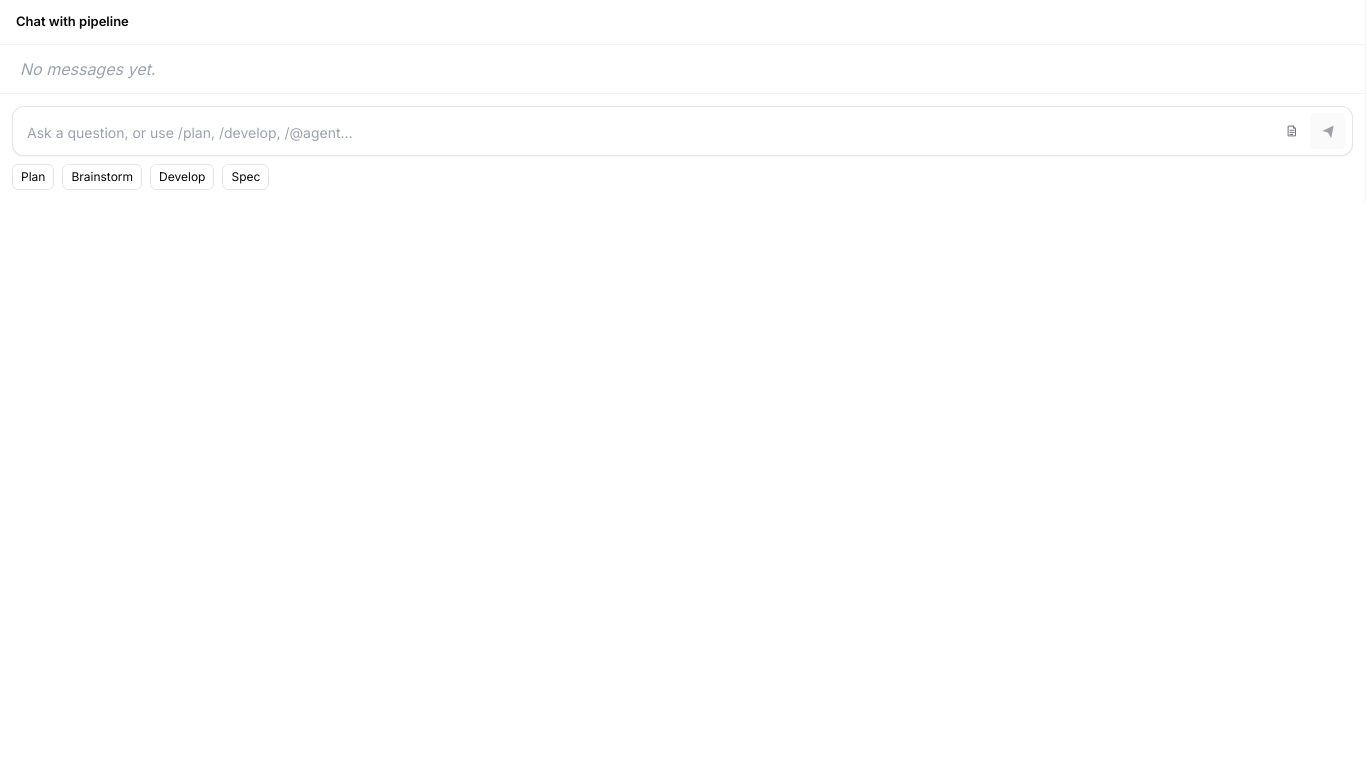
Test: ChatColumn › W.9.4 — New-spec affordance in ChatColumn › clicking new-spec button opens the SpecDialog
This screenshot has width=1366, height=768.
Click the button with test id "chat-composer-new-spec" at (1292, 130), box [1278,116,1306,144]
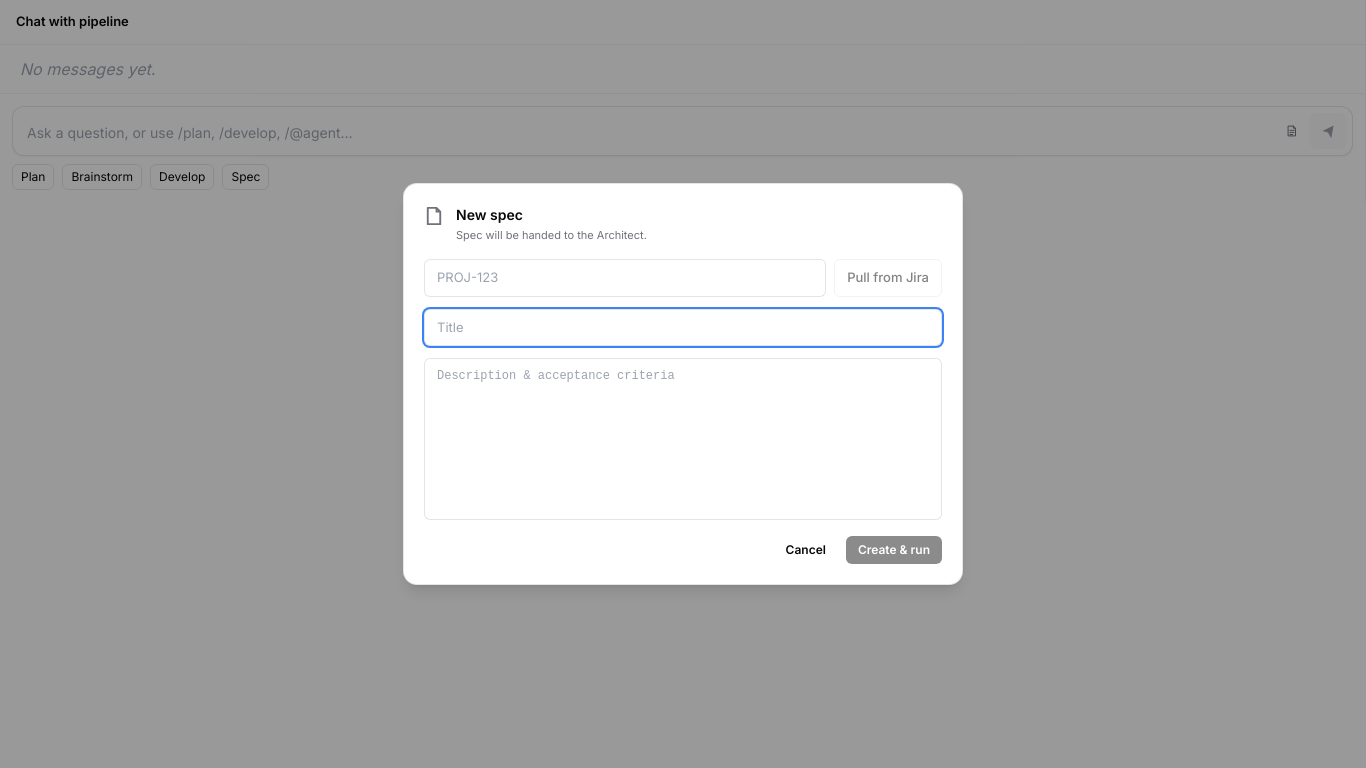
Expected: the dialog with test id "spec-dialog" is shown, [403,183,963,585]
